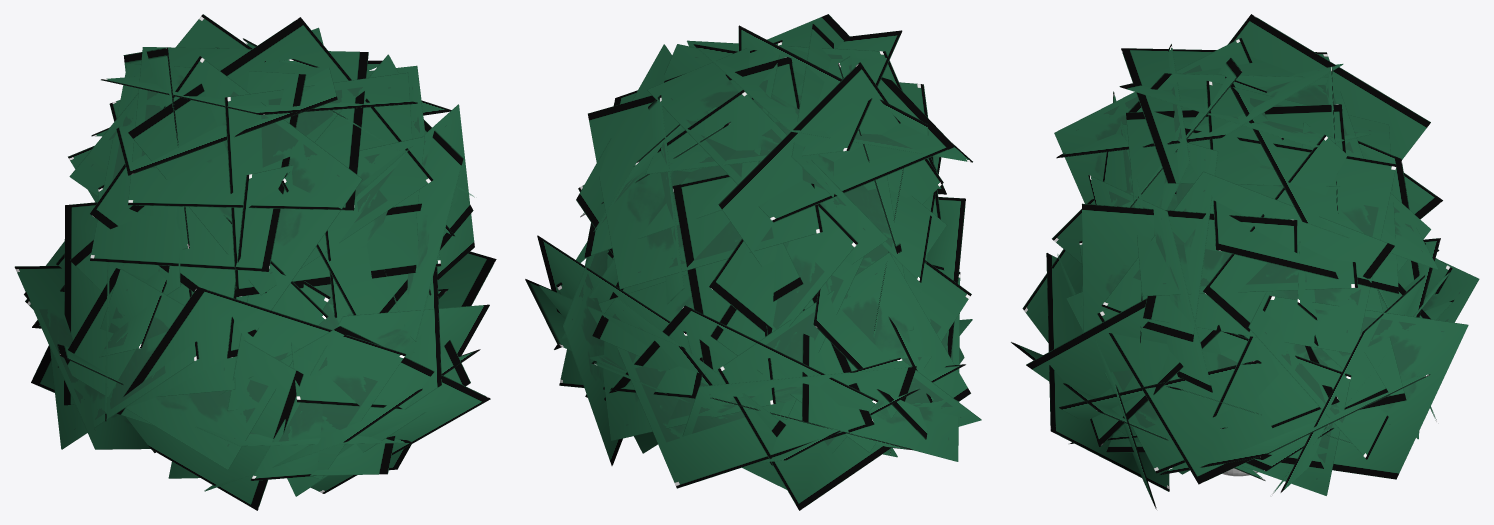
The model's file is Hugo_Trees1_2.fbx.
The picture shows the model from 3 angles, left to right: view 1: azimuth 30°, elevation 25°; view 2: azimuth 150°, elevation 25°; view 3: azimuth 270°, elevation 25°; orthographic projection. The views are drawn at different scales.
Visible parts, largest first — view 1: Tree2; view 2: Tree2; view 3: Tree2.
Boxes of the visible parts, left/top/right/bottom form: Tree2: left=14, top=14, right=496, bottom=510; Tree2: left=525, top=14, right=981, bottom=510; Tree2: left=1011, top=14, right=1479, bottom=509.
Bounding box in the file's own units: 253 × 243 × 242.
